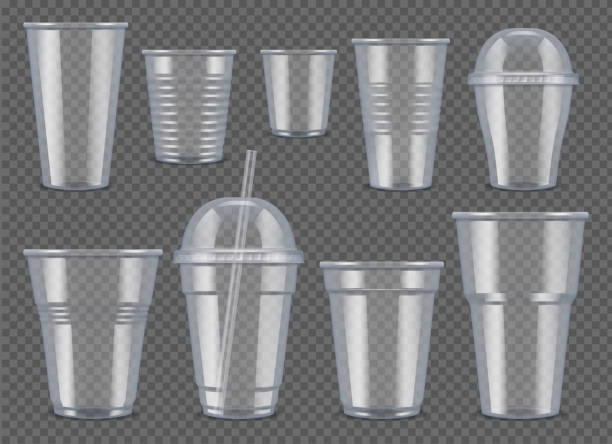plastic_glass: (449, 203, 604, 432), (169, 190, 309, 429), (16, 237, 162, 426), (452, 17, 596, 204), (313, 250, 448, 426), (20, 13, 132, 198), (343, 28, 457, 201), (133, 41, 234, 169), (255, 41, 341, 149)
